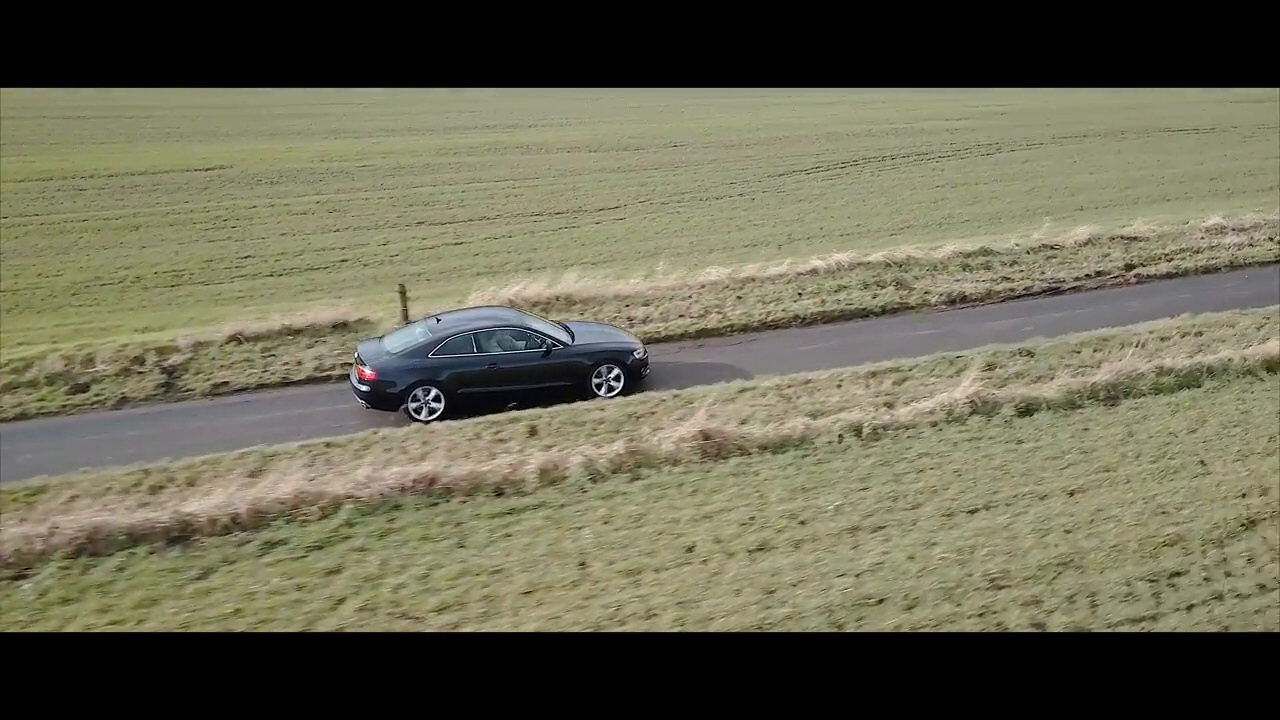araba: (350, 304, 652, 423)
